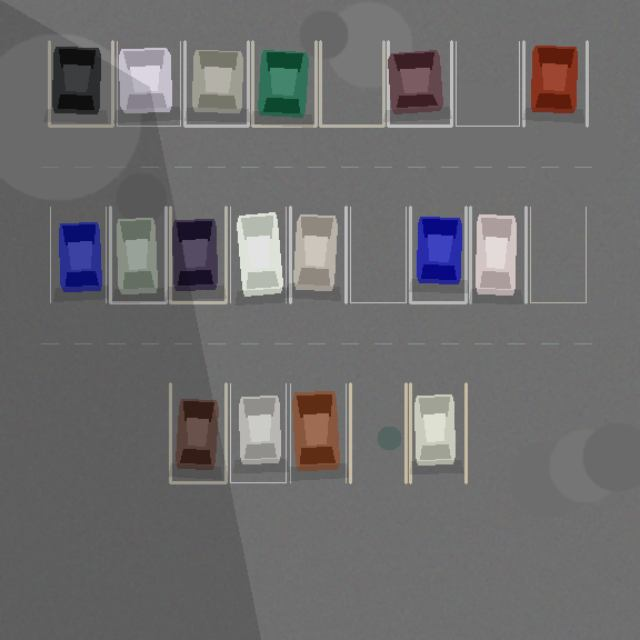space-empty: (350, 383, 406, 482), (320, 41, 383, 126), (456, 41, 519, 126), (350, 207, 406, 302), (530, 207, 586, 302)
space-occupied: (170, 383, 226, 482), (230, 383, 286, 482), (290, 383, 346, 482), (410, 383, 466, 482), (184, 41, 248, 126), (252, 41, 316, 126), (523, 41, 587, 126), (49, 41, 112, 126), (117, 41, 180, 126), (388, 41, 451, 126), (50, 207, 106, 302), (110, 207, 166, 302), (170, 207, 226, 302), (230, 207, 286, 302), (290, 207, 346, 302), (410, 207, 466, 302), (470, 207, 526, 302)
